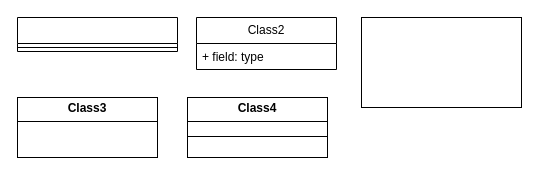
This 539x175 diagram has some shape labels left out. The shapes that lost their labels are listed below. From the top down, each one's centre as x and y in pixels, then its label:
the point at 97,34: Class1
the point at 441,62: Class5 txt + method(): Class2
